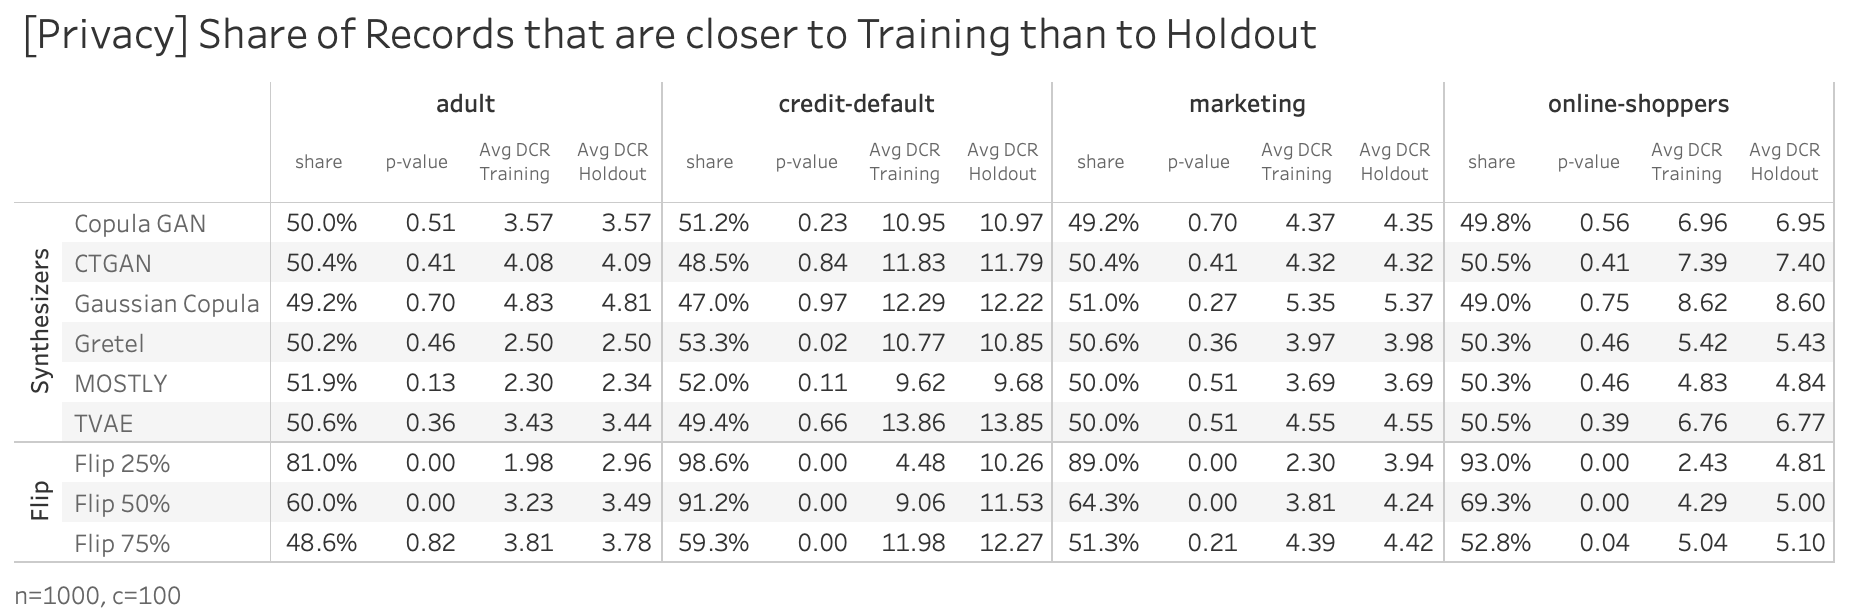

This screenshot's page, from the dashboard's own definition file:
{"tool":"tableau","page":{"name":"privacy_all","canvas":[700,750],"ordinal":5},"visuals":[{"type":"worksheet","title":"priv_share (2)","mark":"Shape","rows":["dataset","synthesizer"],"cols":["priv_dcr_ratio_q50","priv_share"],"box":[8,8,684,734]}]}

Visuals, with their boxes on the page's 700x750 design canvas (x1, y1, x2, y2). These are canvas units, not pixel positions in the 1856x610 screenshot, which may show the page scaled, cropped or inside an application window:
"priv_share (2)" worksheet (Shape marks): 8, 8, 692, 742
